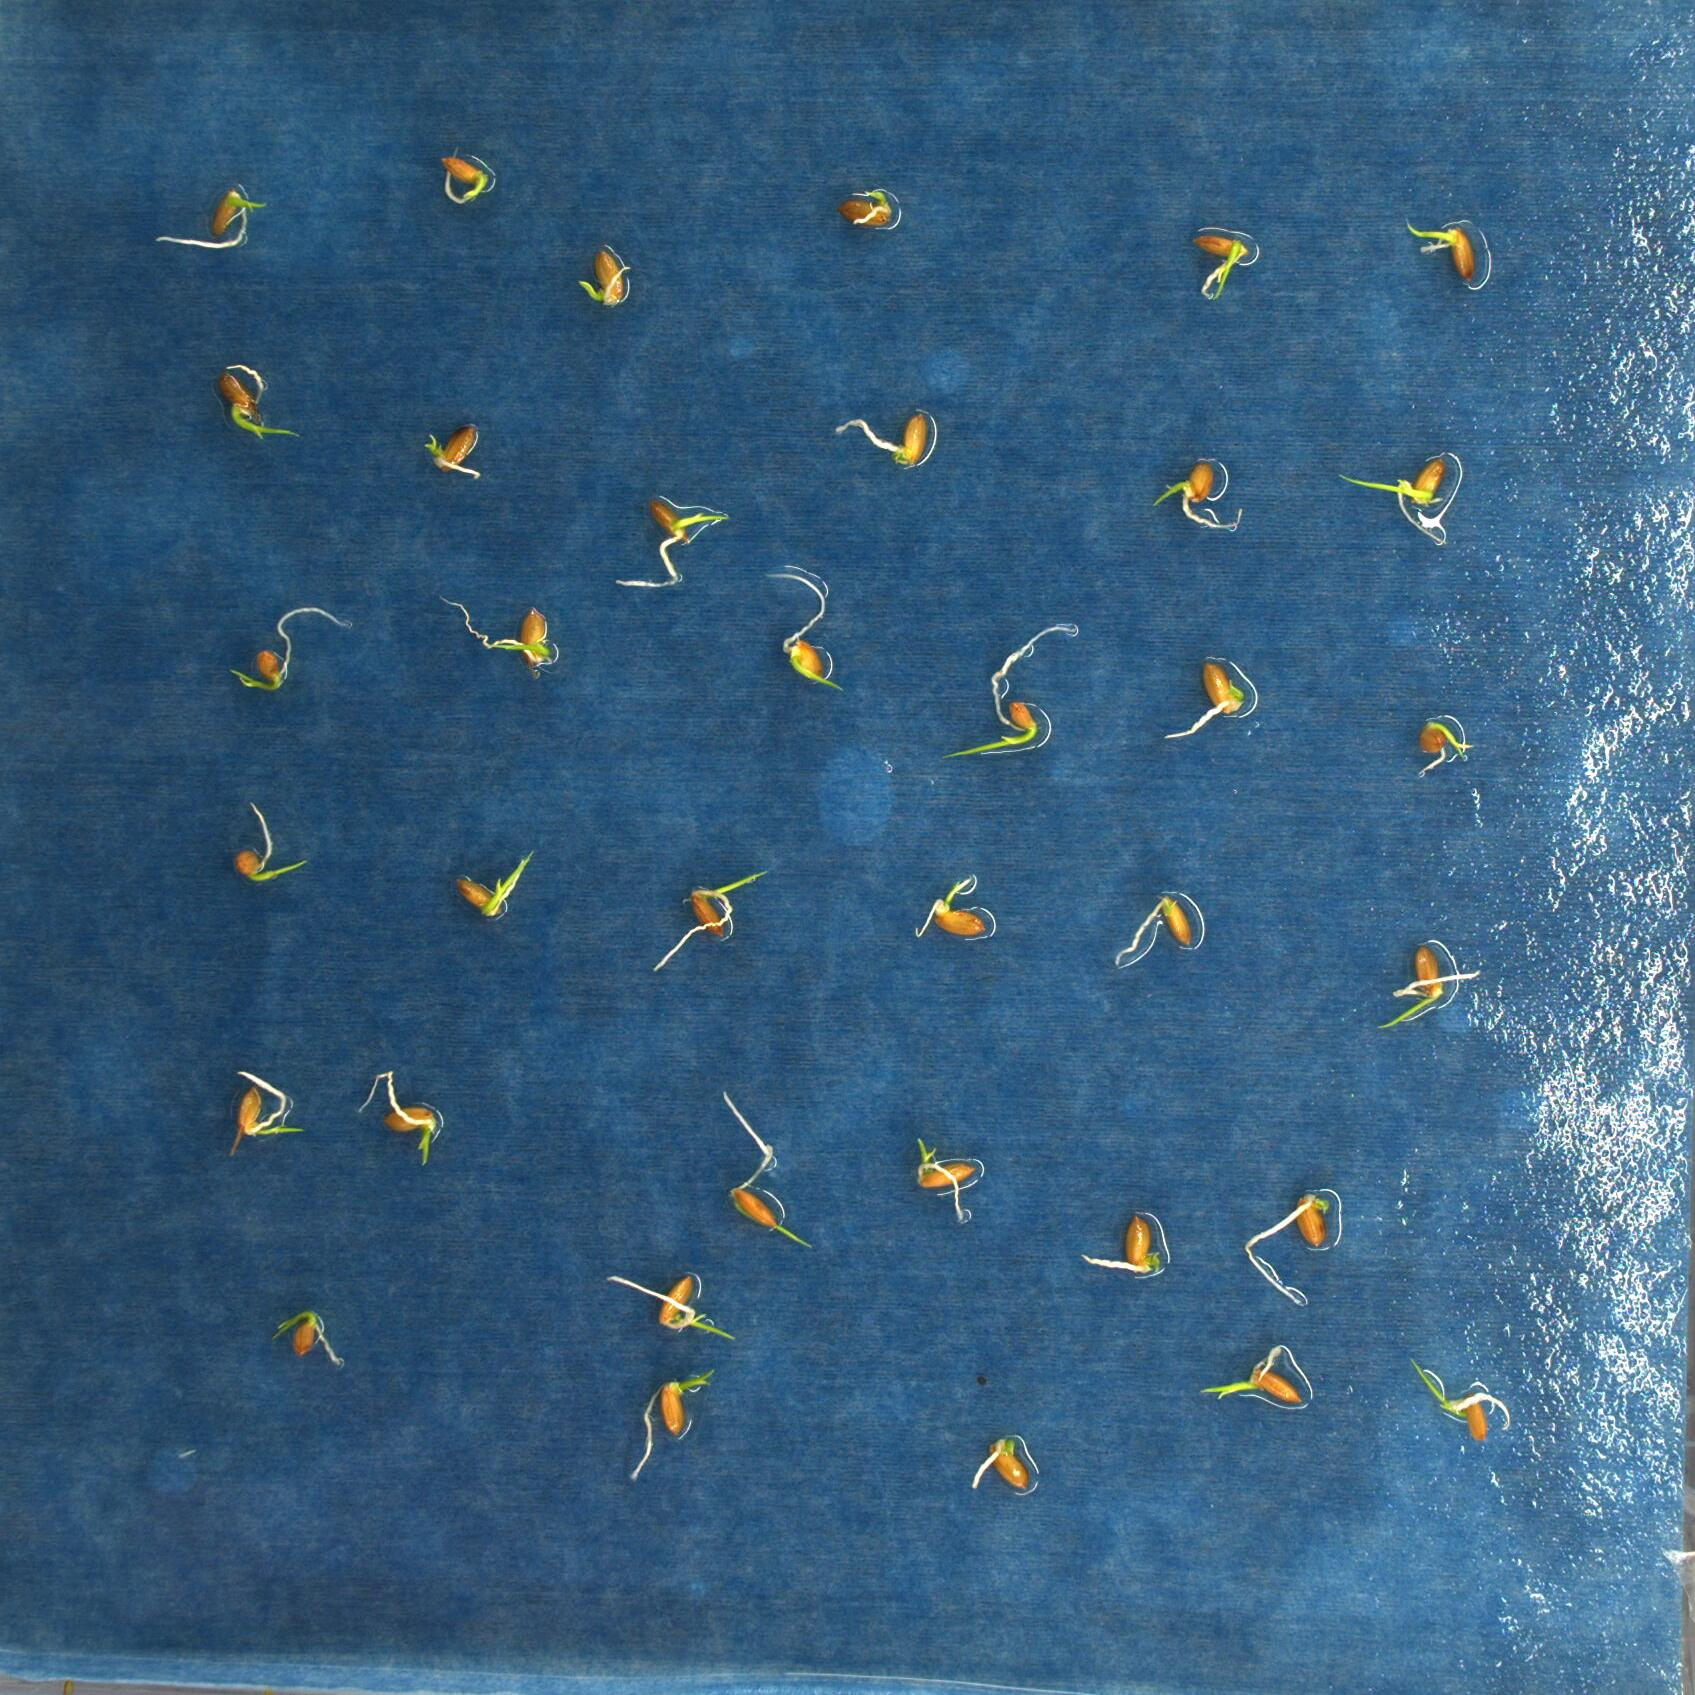not sprout: (1254, 1192, 1332, 1312), (830, 408, 931, 469), (1116, 894, 1192, 967), (1080, 1214, 1166, 1274), (418, 419, 483, 480), (973, 1439, 1029, 1496)
sprout: (934, 626, 1076, 762), (720, 1090, 818, 1253), (653, 868, 775, 972), (1336, 452, 1453, 549), (227, 602, 352, 692), (761, 570, 851, 692), (612, 495, 730, 588), (435, 594, 557, 683), (622, 1367, 716, 1481), (604, 1273, 737, 1344), (1405, 1357, 1510, 1447), (1380, 941, 1479, 1031), (355, 1068, 442, 1166), (1159, 661, 1243, 756), (151, 185, 267, 251), (1194, 1343, 1307, 1408), (227, 1066, 304, 1156), (1153, 463, 1245, 539), (214, 368, 303, 444), (233, 802, 304, 886), (913, 1139, 976, 1228), (913, 872, 989, 944), (458, 852, 539, 919), (1183, 225, 1251, 300), (1397, 224, 1479, 278), (272, 1312, 345, 1367), (1414, 722, 1475, 789), (574, 245, 633, 307), (438, 151, 487, 203), (840, 189, 896, 230)
